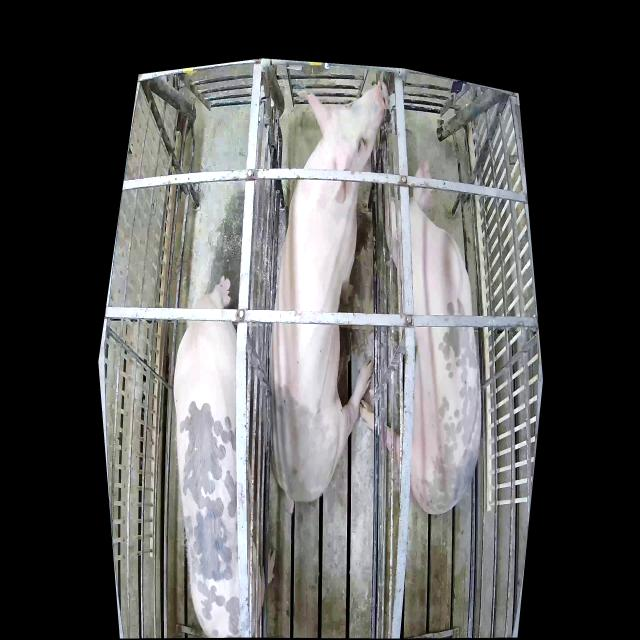pig: (269, 81, 390, 505), (361, 162, 482, 513), (173, 274, 276, 636)
